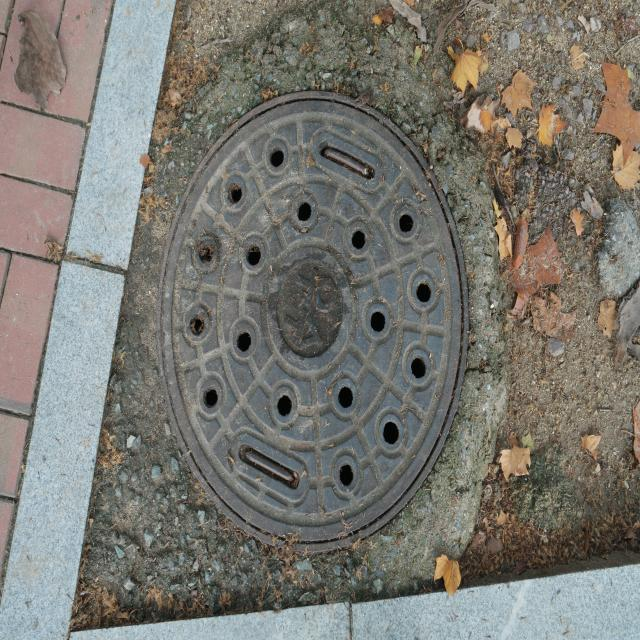manhole: (161, 92, 466, 551)
